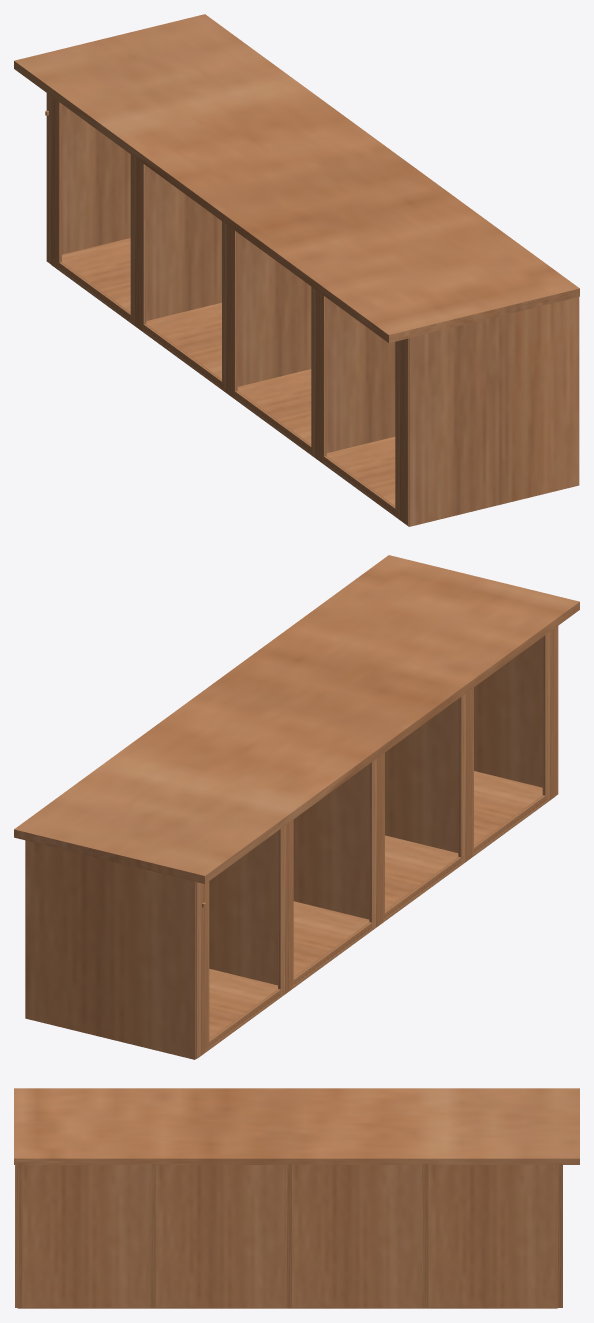
File: gabinete.obj
3 views of the same model, one above another, from view 1: azimuth 30°, elevation 25°; view 2: azimuth 150°, elevation 25°; view 3: azimuth 270°, elevation 25° (orthographic). The views are drawn at different scales.
Parts seen in each view (by area): view 1: cuarto:cuarto:polySurface7193polySurface7527; view 2: cuarto:cuarto:polySurface7193polySurface7527; view 3: cuarto:cuarto:polySurface7193polySurface7527.
Part boxes in pixels (x1,y1,x2,y2): cuarto:cuarto:polySurface7193polySurface7527: (14,14,579,526); cuarto:cuarto:polySurface7193polySurface7527: (14,555,579,1059); cuarto:cuarto:polySurface7193polySurface7527: (14,1088,579,1308).
Bounding box in the file's own units: 1.36 × 1.36 × 4.64.
5 materials, 5 textured.
